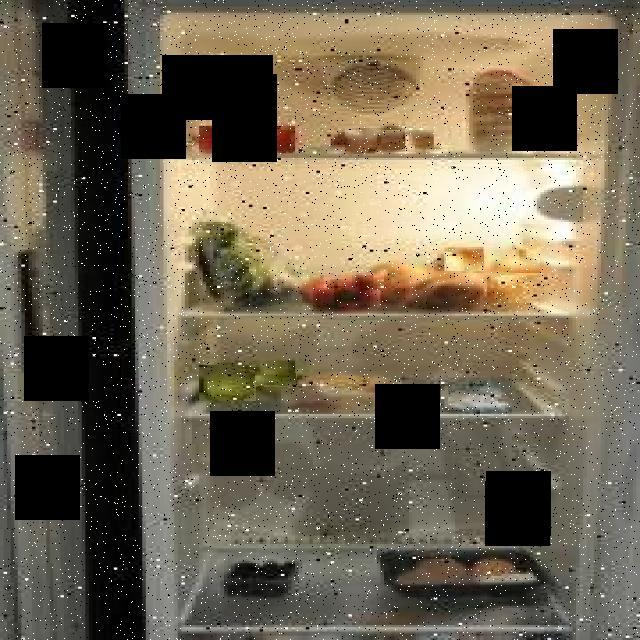apple: (199, 365, 256, 401), (254, 362, 297, 387)
egg: (345, 130, 377, 154), (377, 130, 409, 152), (405, 130, 434, 152)
onion: (494, 250, 540, 273), (444, 247, 484, 271)
tomato: (228, 126, 266, 151), (199, 127, 235, 152), (267, 126, 295, 153)
